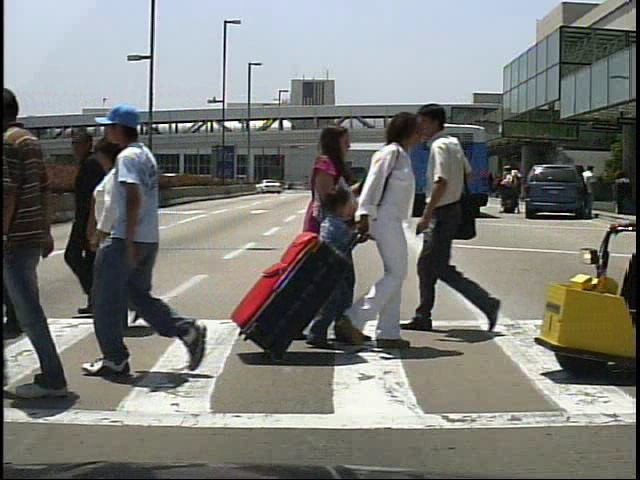person: (98, 105, 206, 388), (399, 99, 514, 346), (338, 117, 436, 368), (297, 120, 368, 358), (84, 139, 149, 332), (63, 128, 122, 323), (305, 180, 355, 319), (582, 164, 602, 218), (498, 166, 516, 219), (504, 165, 523, 215)
